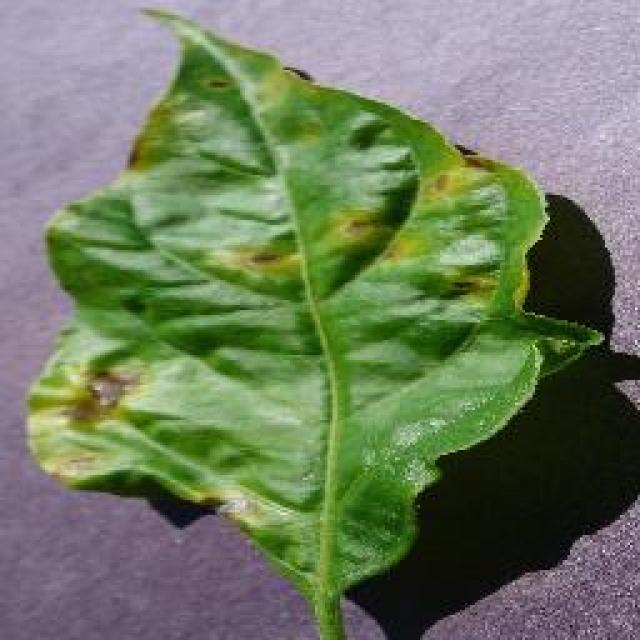Chilli_Bacterial_Spot: (22, 3, 608, 635), (20, 325, 152, 490), (208, 200, 390, 288), (62, 362, 140, 428), (210, 235, 305, 285), (197, 60, 315, 95), (330, 202, 382, 250), (80, 367, 128, 415)
